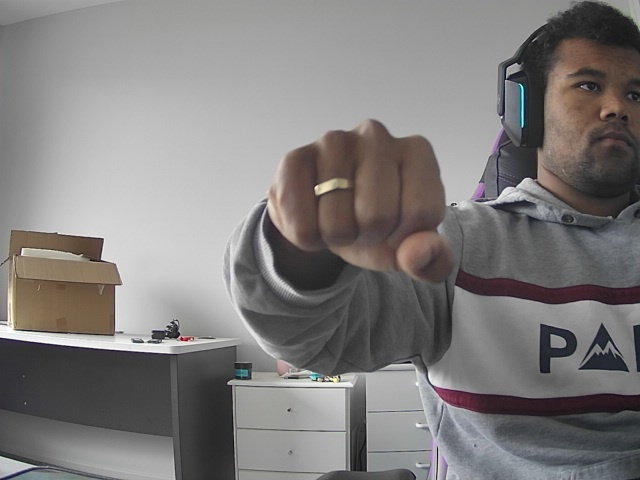Yes: (244, 109, 469, 296)
